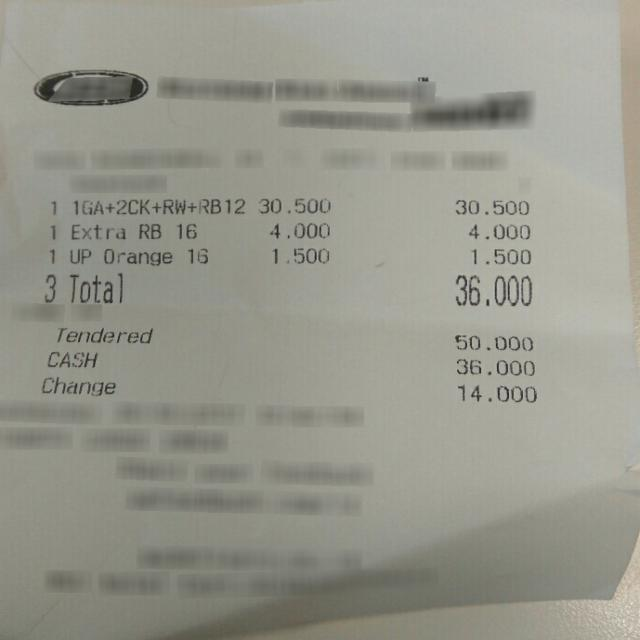text: (72, 197, 244, 214), (454, 275, 530, 305), (69, 271, 124, 303), (456, 383, 534, 402), (55, 326, 150, 341), (41, 376, 114, 395), (456, 358, 533, 375), (453, 199, 527, 215), (257, 197, 329, 213), (454, 334, 530, 348), (103, 248, 169, 264), (467, 223, 529, 238), (471, 248, 529, 264), (268, 222, 327, 237), (272, 248, 329, 262), (70, 223, 122, 238), (47, 352, 96, 366), (138, 222, 160, 237), (69, 248, 89, 264), (188, 248, 209, 263), (43, 273, 54, 301), (176, 222, 195, 238), (48, 198, 58, 216), (45, 222, 55, 240), (48, 249, 53, 262)
